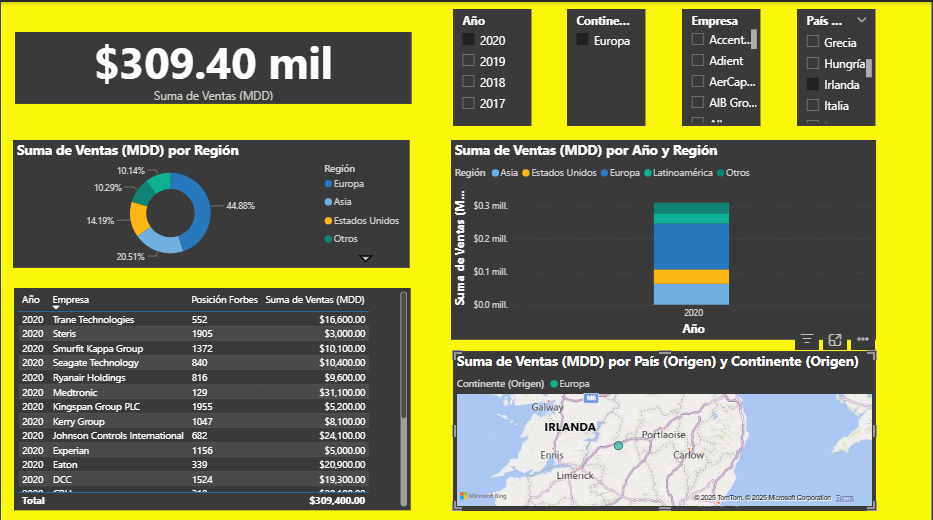

The dashboard page shown, as its layout file describes it:
{"tool":"powerbi","page":{"name":"Página 1","canvas":[1280,720],"ordinal":0},"visuals":[{"type":"tableEx","fields":{"Values":["Forbes Global 2000.Año","Forbes Global 2000.Empresa","Forbes Global 2000.Posición Forbes","Sum(Forbes Global 2000.Ventas (MDD))"]},"box":[17.9,393.6,546.4,305.5],"z":1000},{"type":"columnChart","fields":{"Category":["Forbes Global 2000.Año"],"Y":["Sum(Forbes Global 2000.Ventas (MDD))"],"Series":["Forbes Global 2000.Región"]},"box":[619.2,190.1,584.6,275],"z":2000},{"type":"donutChart","fields":{"Category":["Forbes Global 2000.Región"],"Y":["Sum(Forbes Global 2000.Ventas (MDD))"]},"box":[16.5,189.9,546.4,176.2],"z":3000},{"type":"map","fields":{"Category":["Forbes Global 2000.País (Origen)"],"Size":["Sum(Forbes Global 2000.Ventas (MDD))"],"Series":["Forbes Global 2000.Continente (Origen)"]},"box":[622.1,481,581.8,218.9],"z":4000},{"type":"card","fields":{"Values":["Sum(Forbes Global 2000.Ventas (MDD))"]},"box":[19.3,41.3,546.4,99.1],"z":5000},{"type":"slicer","fields":{"Values":["Forbes Global 2000.Año"]},"box":[622.1,10.1,108,161.3],"z":6000},{"type":"slicer","fields":{"Values":["Forbes Global 2000.Continente (Origen)"]},"box":[779,10.1,108,161.3],"z":7000},{"type":"slicer","fields":{"Values":["Forbes Global 2000.Empresa"]},"box":[937.4,10.1,108,161.3],"z":8000},{"type":"slicer","fields":{"Values":["Forbes Global 2000.País (Origen)"]},"box":[1095.8,10.1,108,161.3],"z":9000}]}

Visuals, with their boxes in screenshot pixels (x1, y1, x2, y2), scaled from the page's 1280x720 canvas onto the 933x520 screenshot:
tableEx - Forbes Global 2000.Año x Forbes Global 2000.Empresa: 13/284/411/505
columnChart - Forbes Global 2000.Año x Sum(Forbes Global 2000.Ventas (MDD)): 451/137/877/336
donutChart - Forbes Global 2000.Región x Sum(Forbes Global 2000.Ventas (MDD)): 12/137/410/264
map - Forbes Global 2000.País (Origen) x Sum(Forbes Global 2000.Ventas (MDD)): 453/347/878/505
card - Sum(Forbes Global 2000.Ventas (MDD)): 14/30/412/101
slicer - Forbes Global 2000.Año: 453/7/532/124
slicer - Forbes Global 2000.Continente (Origen): 568/7/647/124
slicer - Forbes Global 2000.Empresa: 683/7/762/124
slicer - Forbes Global 2000.País (Origen): 799/7/877/124
